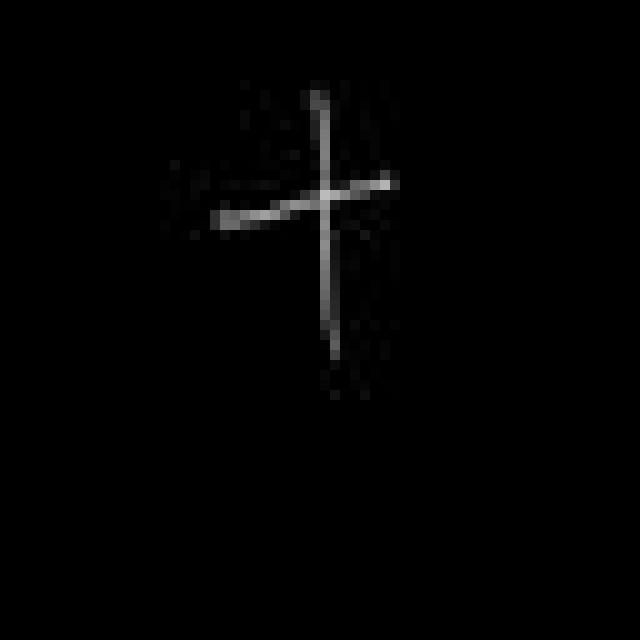10 -ten-: (204, 84, 403, 373)
